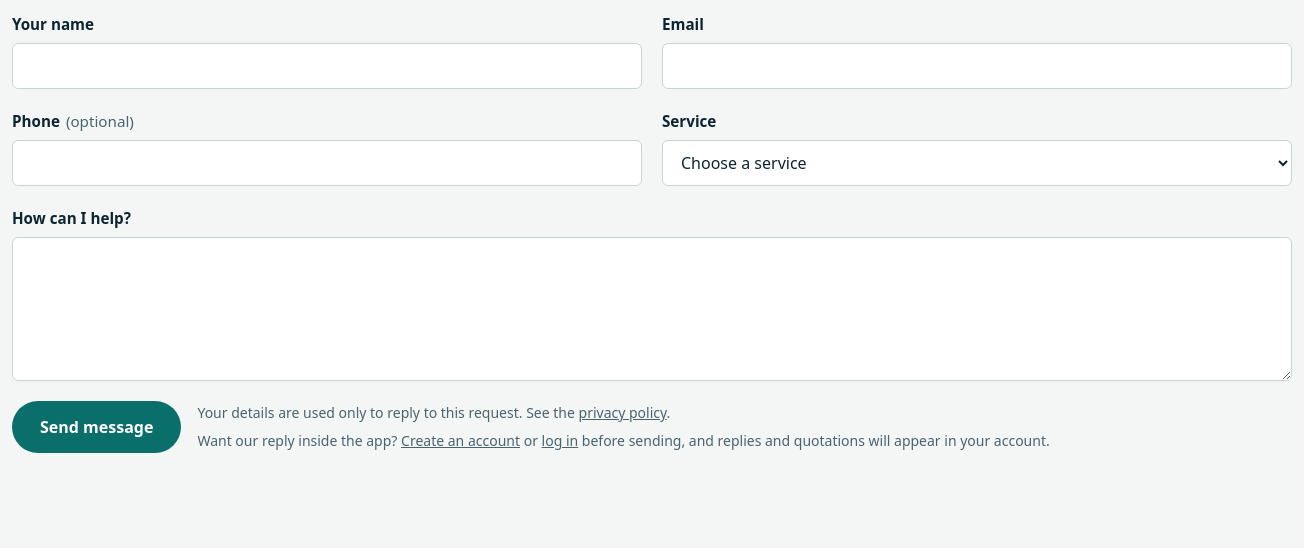
ContactForm › shows validation errors and does not submit an empty form
The image size is (1304, 548).
Click the button "Send message" at (97, 427), box x1=12 y1=401 x2=181 y2=453
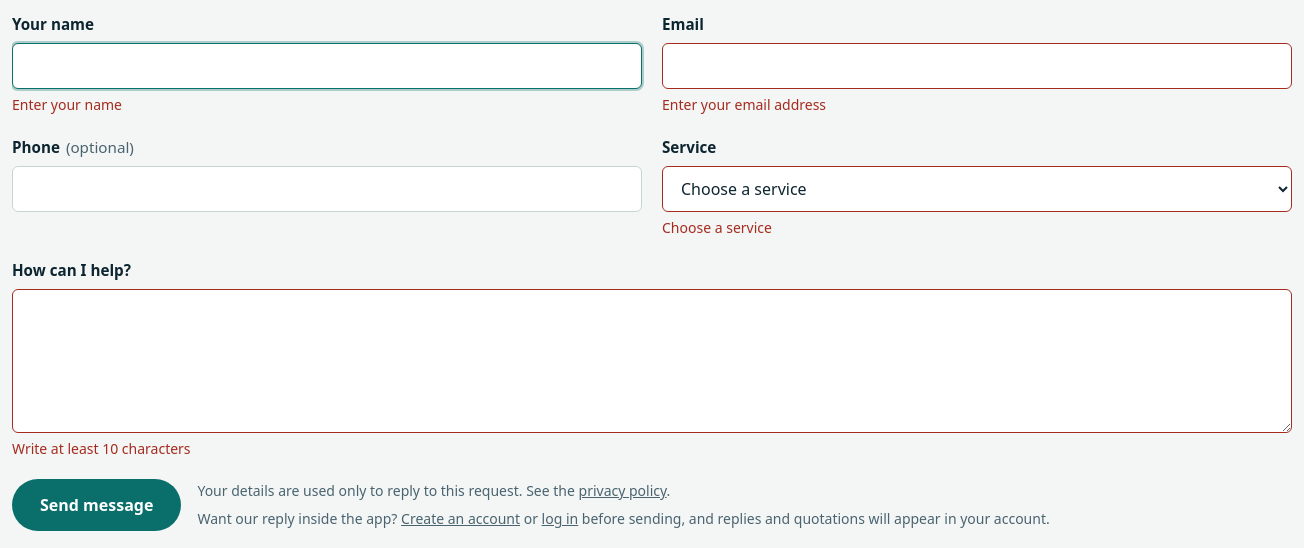
Expected: the text "Enter your name" is shown, x1=12 y1=95 x2=122 y2=114
Expected: the text "Enter your email address" is shown, x1=662 y1=95 x2=826 y2=114
